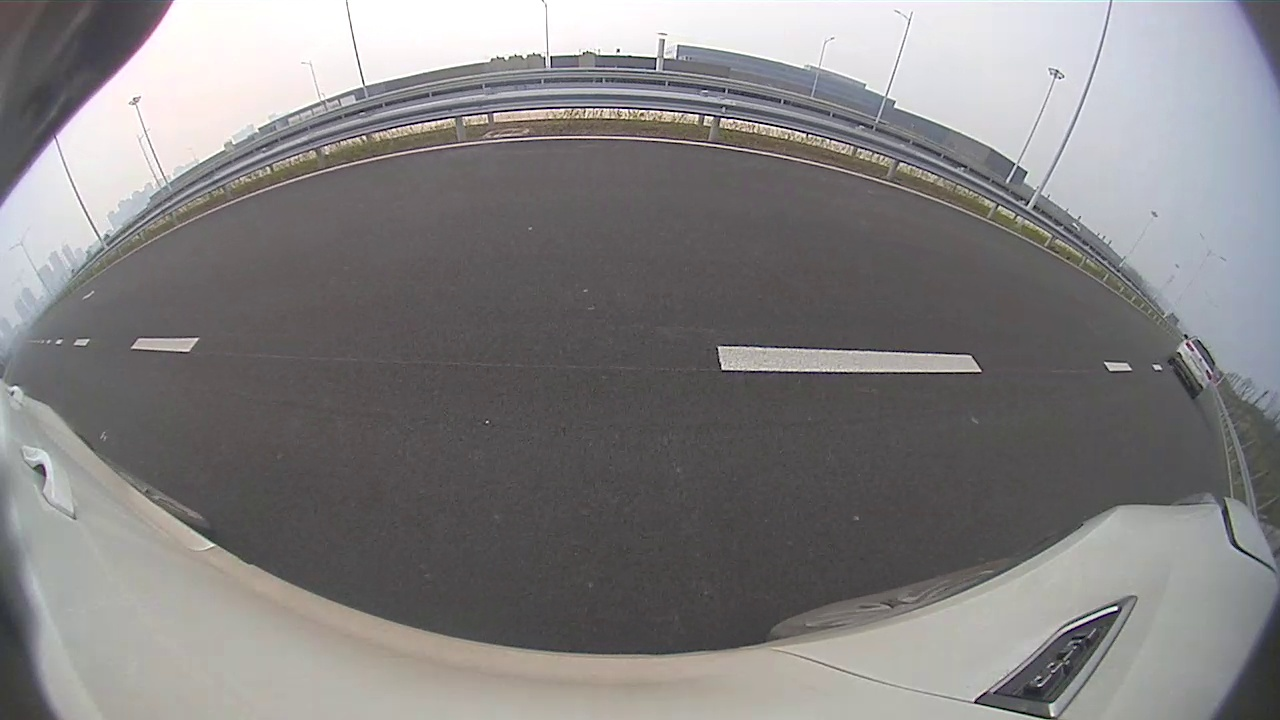car: (619, 156, 658, 187)
